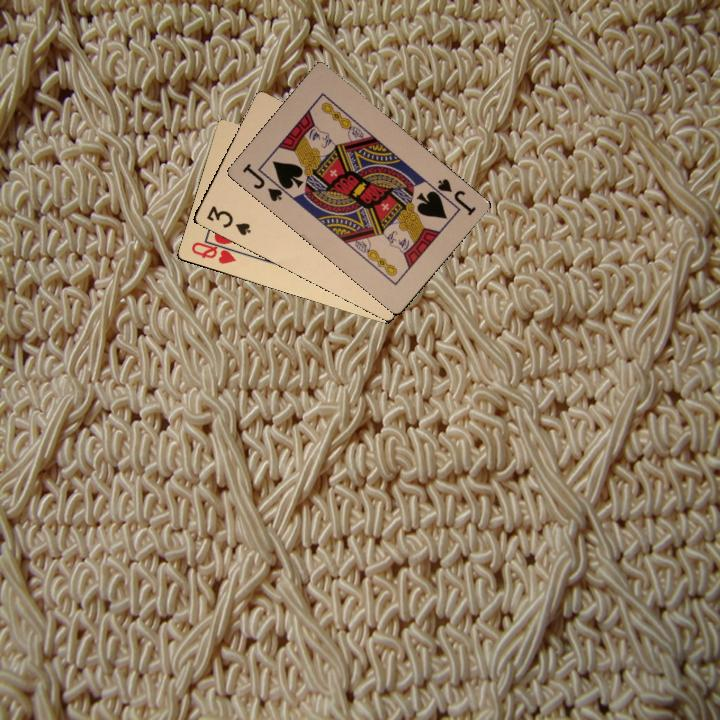3s: (203, 202, 253, 238)
Js: (238, 159, 289, 204), (427, 174, 479, 218)
Qh: (187, 236, 242, 266)
